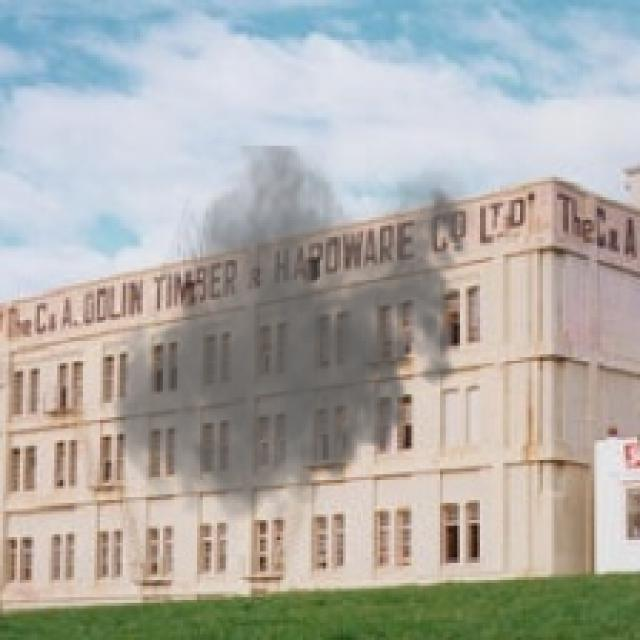Smoke: (106, 145, 480, 538)
